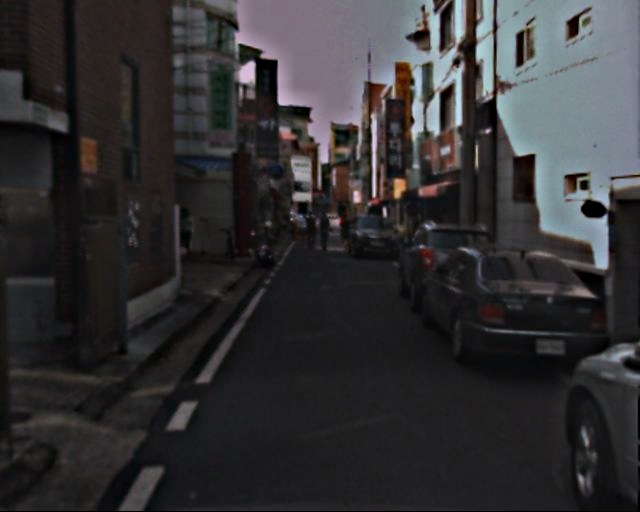person: (173, 207, 196, 262), (315, 210, 333, 255), (303, 210, 321, 253), (336, 214, 353, 256)
